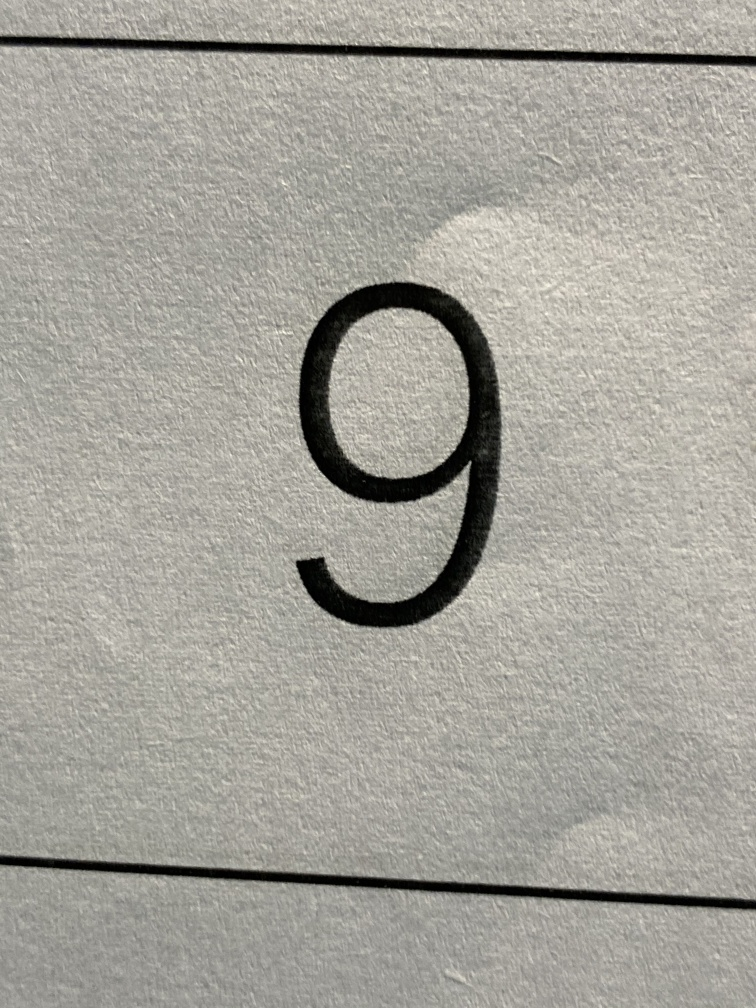nine: (226, 222, 567, 704)
